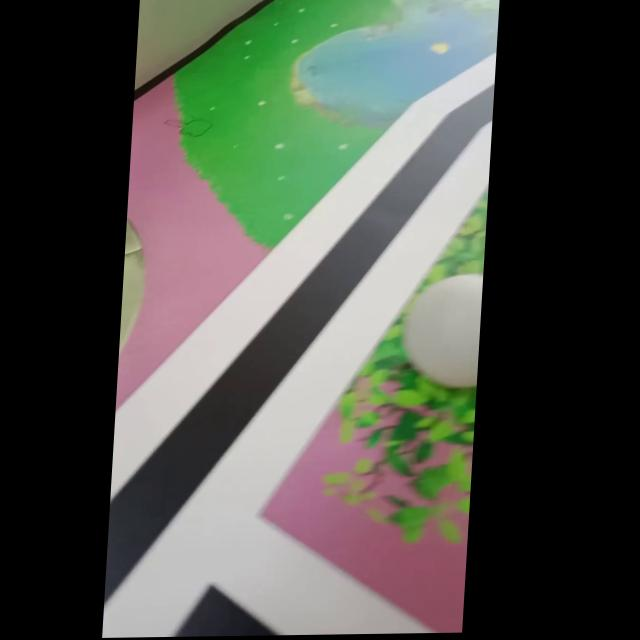white ball: (400, 273, 482, 390)
